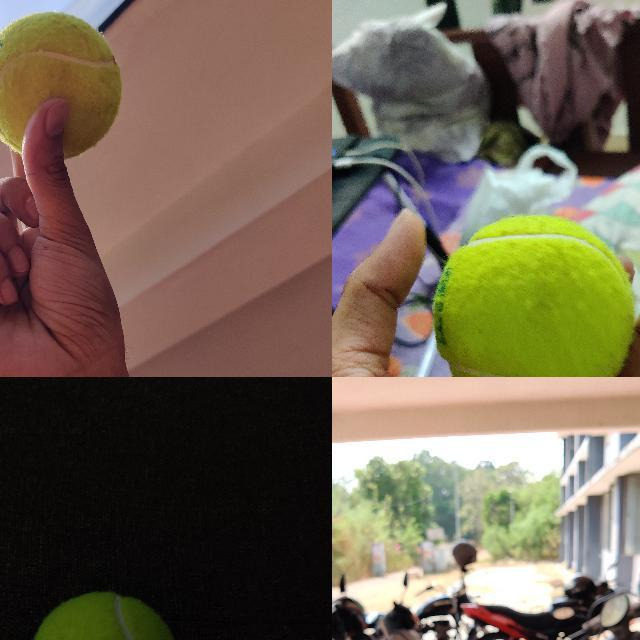tennis-ball: (431, 214, 636, 376), (0, 12, 122, 161), (26, 591, 180, 639)
